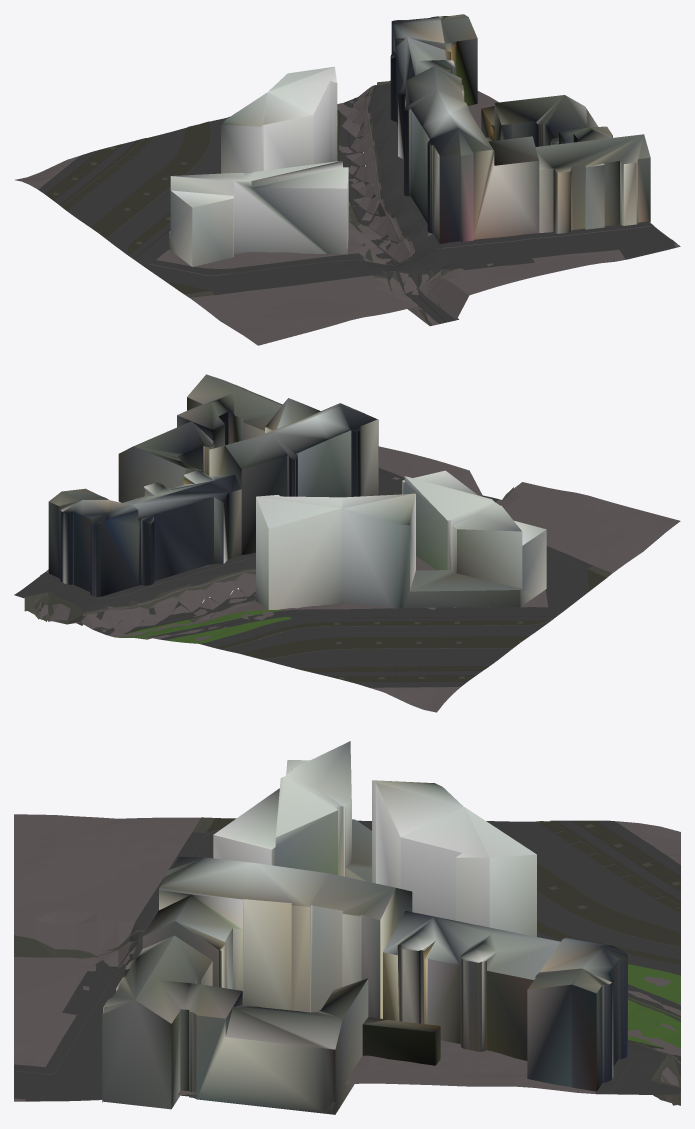
The picture shows the model from 3 angles, top to bottom: view 1: azimuth 30°, elevation 25°; view 2: azimuth 150°, elevation 25°; view 3: azimuth 270°, elevation 25°; orthographic projection. The views are drawn at different scales.
Parts seen in each view (by area): view 1: c_m13_p01; view 2: c_m13_p01; view 3: c_m13_p01.
Boxes of the visible parts, x1,y1,x2,y2 form: c_m13_p01: (15,14,680,345); c_m13_p01: (14,374,680,712); c_m13_p01: (14,741,680,1114).
Size of the model in its own units: 135 by 35.68 by 128.
